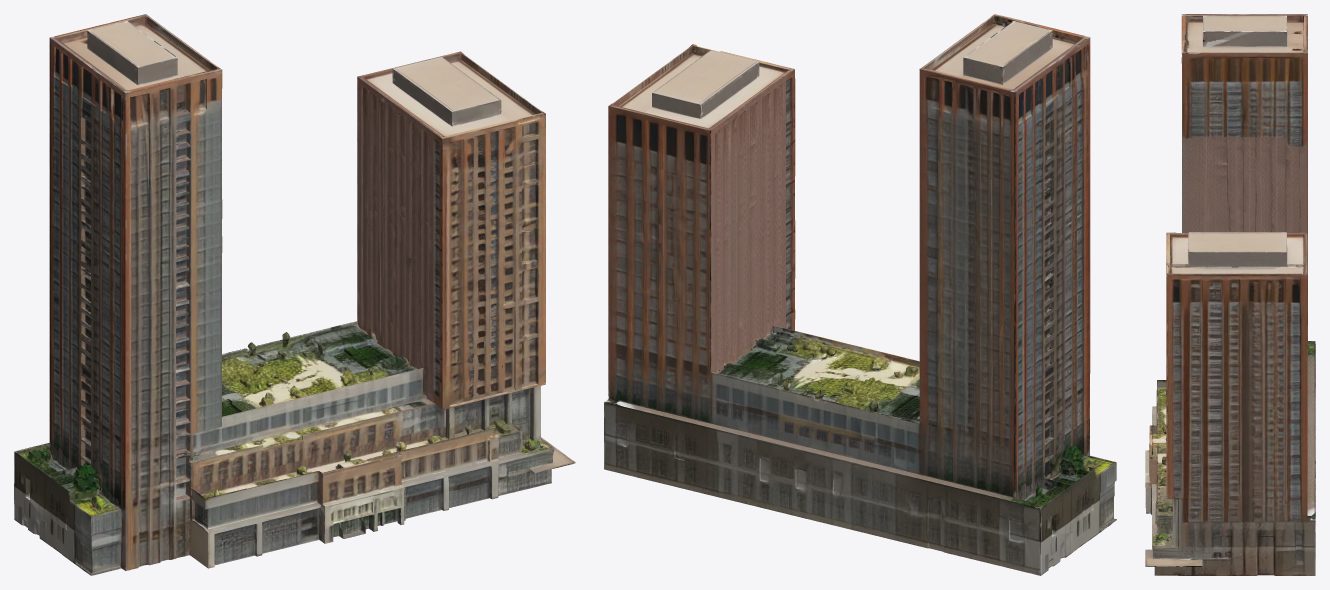
The model's file is fcr-model.glb.
3 views of the same model, side by side, from view 1: azimuth 30°, elevation 25°; view 2: azimuth 150°, elevation 25°; view 3: azimuth 270°, elevation 25° (orthographic). The views are drawn at different scales.
Parts seen in each view (by area): view 1: model; view 2: model; view 3: model.
Boxes of the visible parts, <box> form: model: <box>14,14,575,575</box>; model: <box>604,14,1116,575</box>; model: <box>1145,14,1315,575</box>.
Bounding box in the file's own units: 0.187 × 0.1901 × 0.0726.
Materials: 1 (1 with a texture image).
